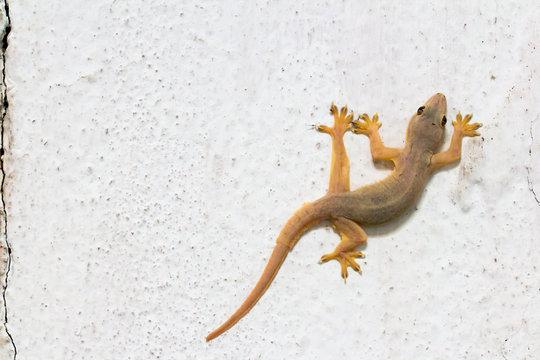lizard: (205, 90, 483, 342)
